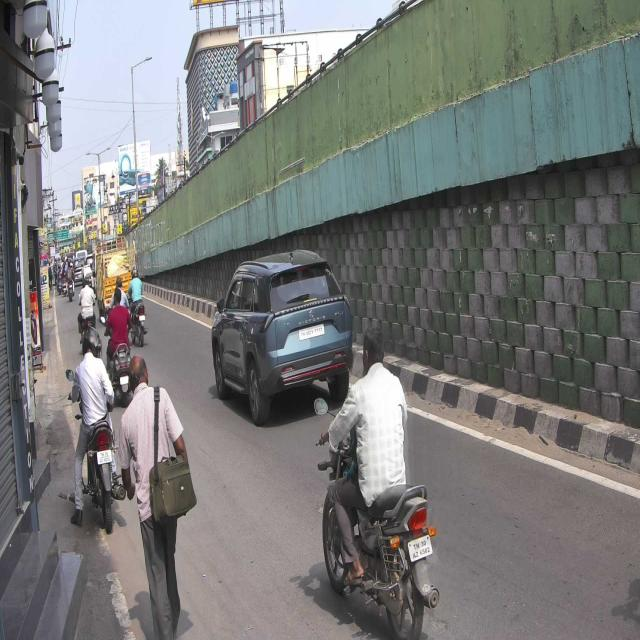single_rider: (316, 322, 441, 640)
